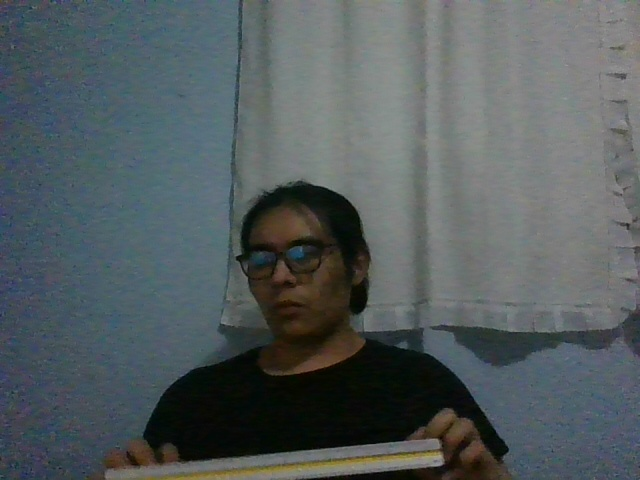regla: (104, 438, 445, 480)
